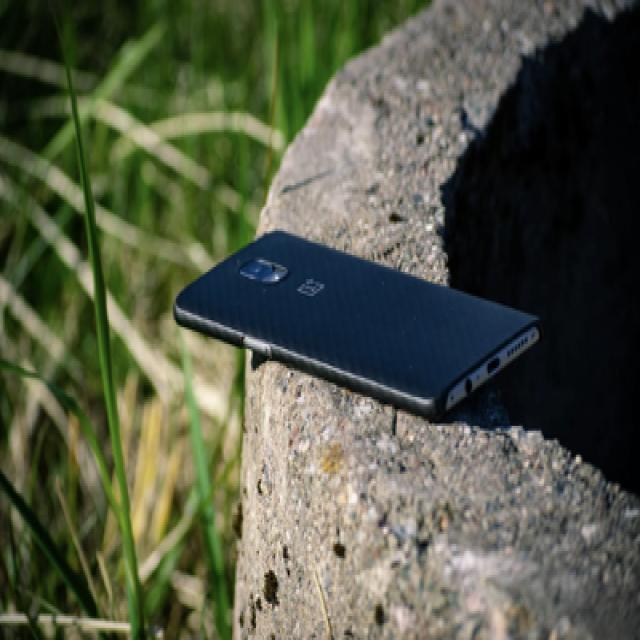cellphone: (171, 226, 541, 421)
